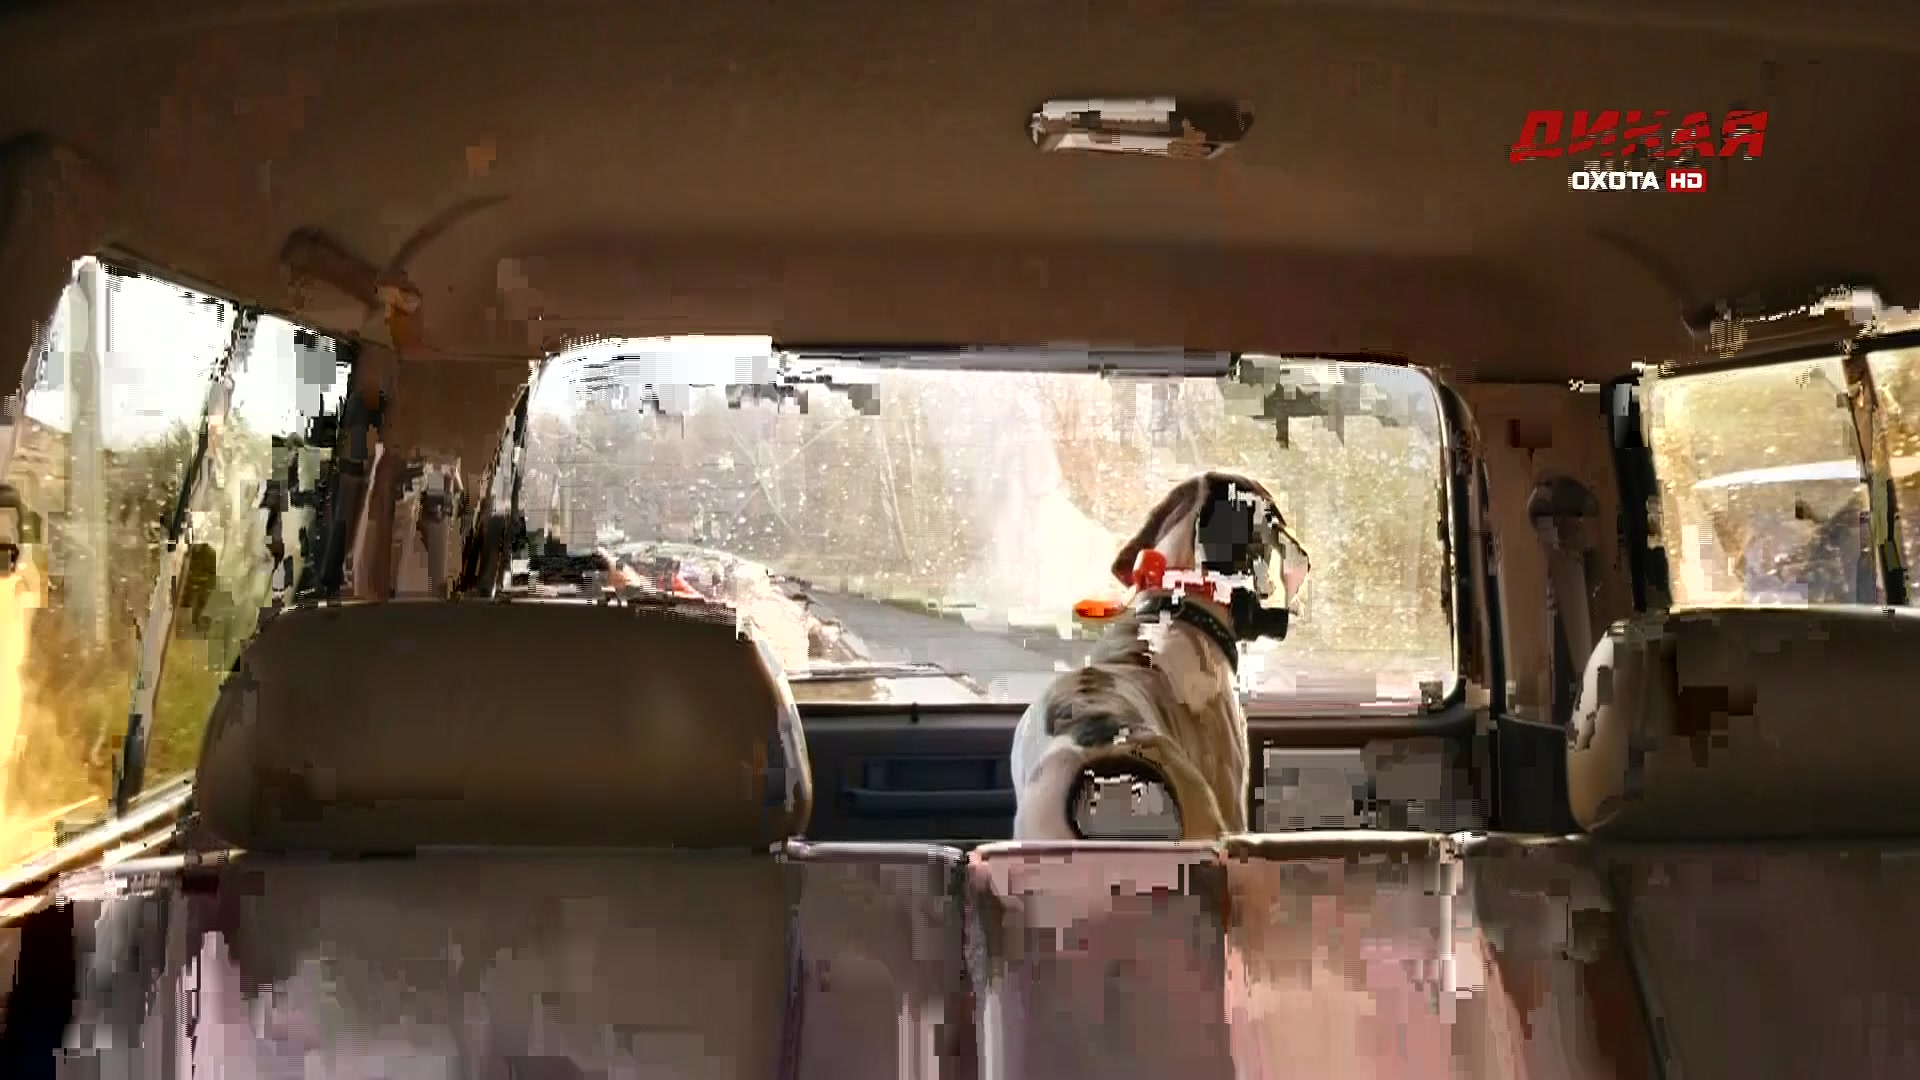Dikaya_Ohota_HD: (1503, 105, 1776, 196)
